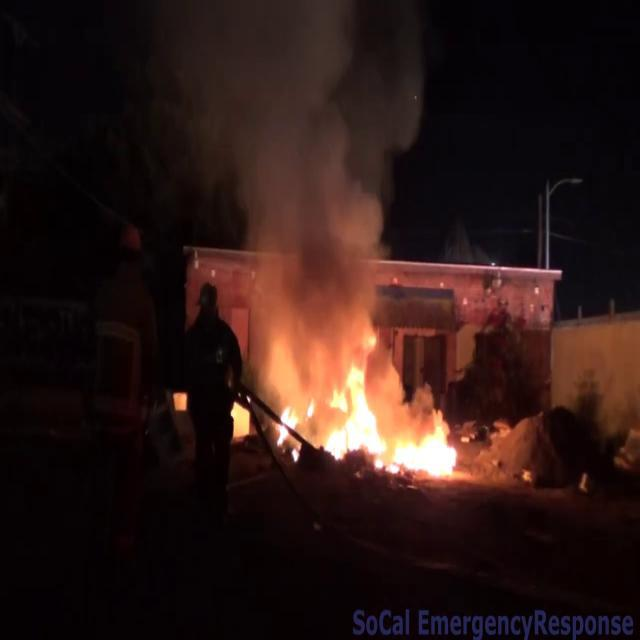Fire: (307, 344, 465, 481), (390, 406, 466, 482)
Smoke: (164, 0, 428, 367)
